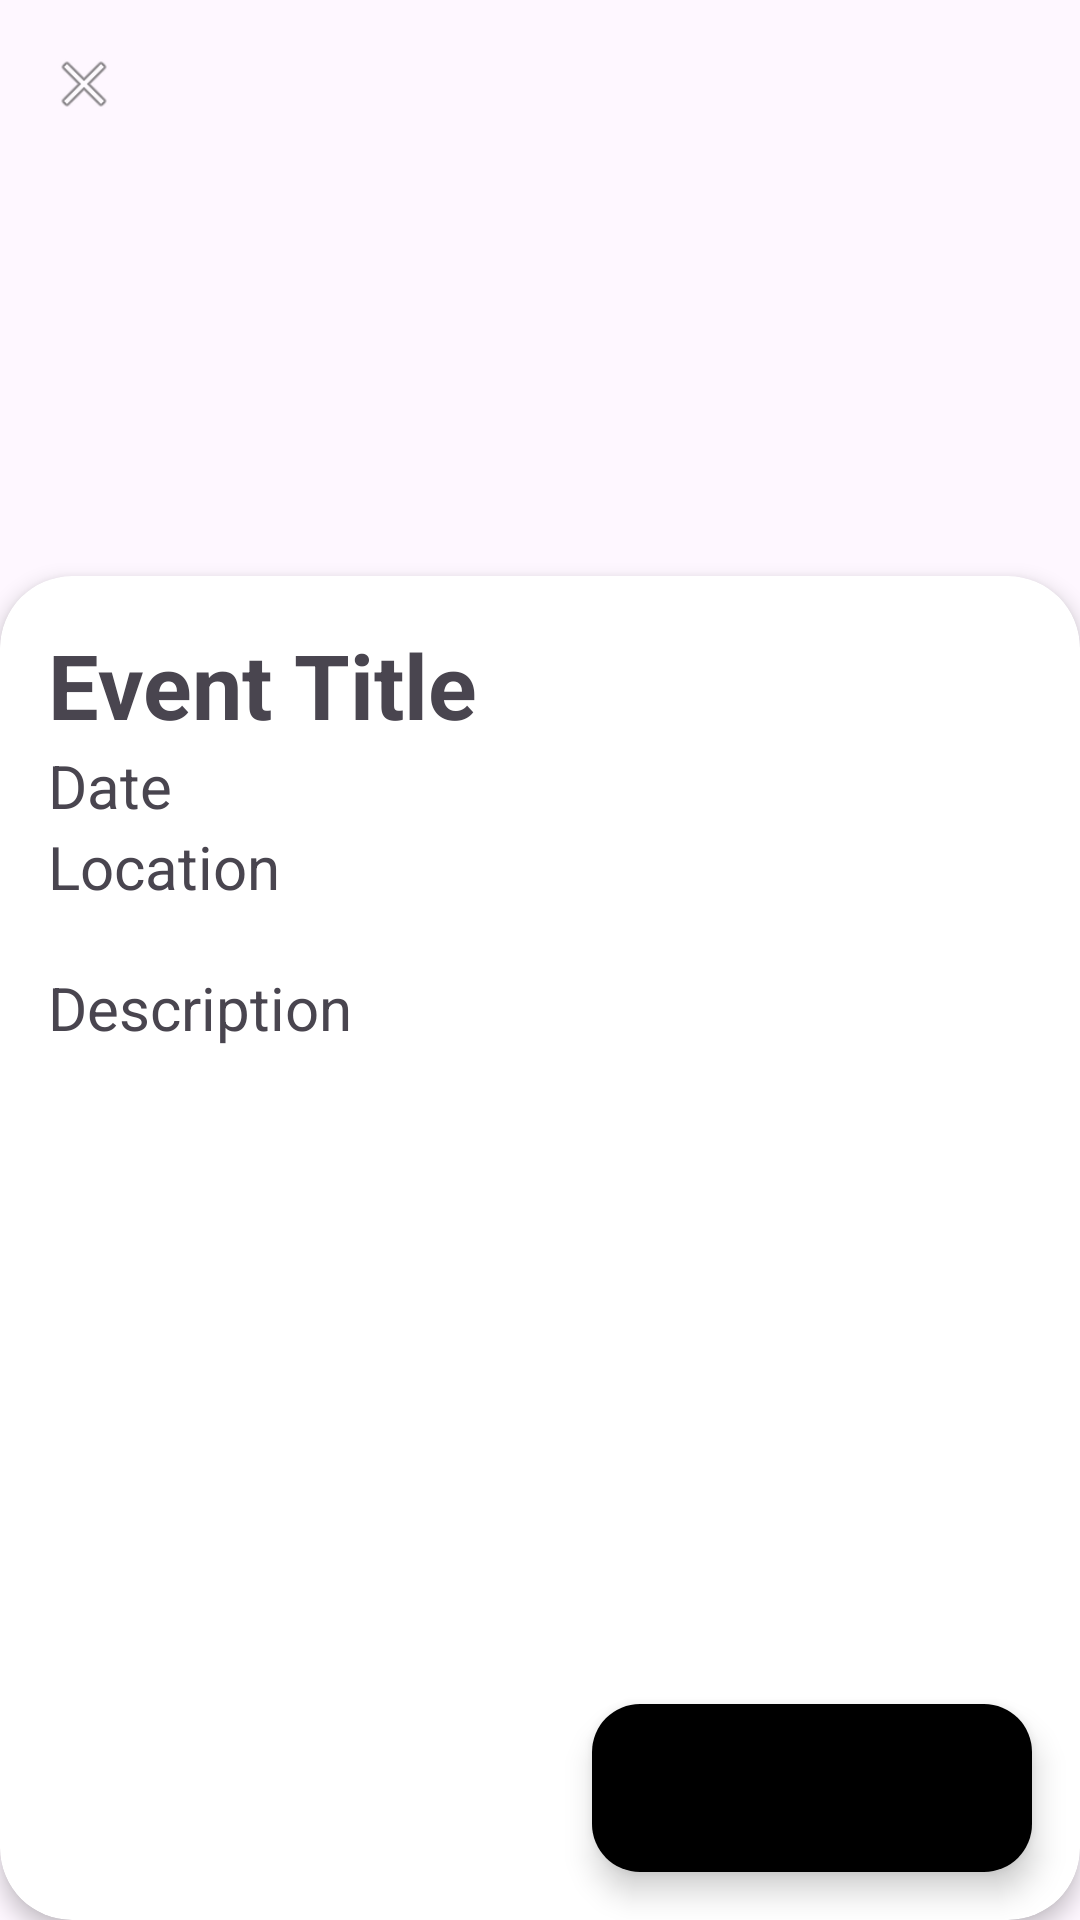

Screen size 1080×1920. Icon name, then its box in pixels as (x1, y1, x2, y2):
close clear cancel: (61, 61, 107, 107)
